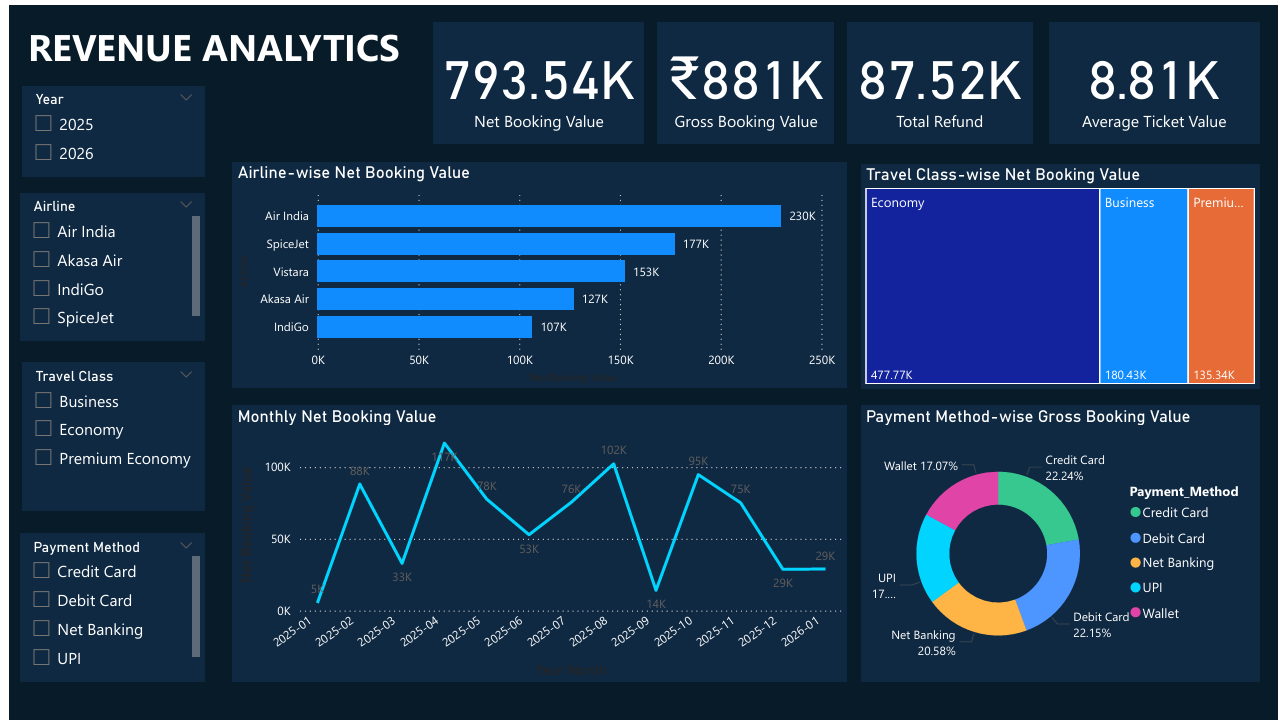

Layout of this report page (visuals, bound fields, positions):
{"tool":"powerbi","page":{"name":"Revenue Analytics","canvas":[1280,720],"ordinal":1},"visuals":[{"type":"card","fields":{"Values":["FlightBookings.Gross Booking Value"]},"box":[654.3,16.7,177.8,122.3],"z":0},{"type":"card","fields":{"Values":["FlightBookings.Net Booking Value"]},"box":[427.9,16.7,212.5,122.3],"z":1000},{"type":"card","fields":{"Values":["FlightBookings.Average Ticket Value"]},"box":[1048.9,16.7,212.5,122.3],"z":2000},{"type":"card","fields":{"Values":["FlightBookings.Total Refund"]},"box":[844.6,16.7,187.5,122.3],"z":3000},{"type":"donutChart","title":"Payment Method-wise Gross Booking Value","fields":{"Category":["FlightBookings.Payment_Method"],"Y":["FlightBookings.Gross Booking Value"]},"box":[858.5,402.9,402.9,279.2],"z":4000},{"type":"textbox","box":[12.5,11.1,398.7,66.7],"z":5000},{"type":"clusteredBarChart","title":"Airline-wise Net Booking Value","fields":{"Category":["FlightBookings.Airline"],"Y":["FlightBookings.Net Booking Value"]},"box":[225.1,158.4,619.6,226.4],"z":5001},{"type":"treemap","title":"Travel Class-wise Net Booking Value","fields":{"Group":["FlightBookings.Travel_Class"],"Values":["FlightBookings.Net Booking Value"]},"box":[858.5,159.8,402.9,226.4],"z":5002},{"type":"lineChart","title":"Monthly Net Booking Value","fields":{"Category":["DimFlightDate.Year Month"],"Y":["FlightBookings.Net Booking Value"]},"box":[225.1,402.9,619.6,279.2],"z":5003},{"type":"slicer","fields":{"Values":["DimFlightDate.Year"]},"box":[12.5,80.6,184.8,91.7],"z":5004},{"type":"slicer","title":"Airline","fields":{"Values":["FlightBookings.Airline"]},"box":[11.1,188.9,186.2,148.6],"z":5005},{"type":"slicer","fields":{"Values":["FlightBookings.Travel_Class"]},"box":[12.5,359.8,184.8,150],"z":5006},{"type":"slicer","fields":{"Values":["FlightBookings.Payment_Method"]},"box":[11.1,532.1,186.2,150],"z":5007}]}

Visuals, with their boxes in screenshot pixels (x1, y1, x2, y2), scaled from the page's 1280x720 canvas onto the 1287x725 screenshot:
card - FlightBookings.Gross Booking Value: bbox(658, 17, 837, 140)
card - FlightBookings.Net Booking Value: bbox(430, 17, 644, 140)
card - FlightBookings.Average Ticket Value: bbox(1055, 17, 1268, 140)
card - FlightBookings.Total Refund: bbox(849, 17, 1038, 140)
"Payment Method-wise Gross Booking Value" donutChart: bbox(863, 406, 1268, 687)
textbox: bbox(13, 11, 413, 78)
"Airline-wise Net Booking Value" clusteredBarChart: bbox(226, 160, 849, 387)
"Travel Class-wise Net Booking Value" treemap: bbox(863, 161, 1268, 389)
"Monthly Net Booking Value" lineChart: bbox(226, 406, 849, 687)
slicer - DimFlightDate.Year: bbox(13, 81, 198, 173)
"Airline" slicer: bbox(11, 190, 198, 340)
slicer - FlightBookings.Travel_Class: bbox(13, 362, 198, 513)
slicer - FlightBookings.Payment_Method: bbox(11, 536, 198, 687)
